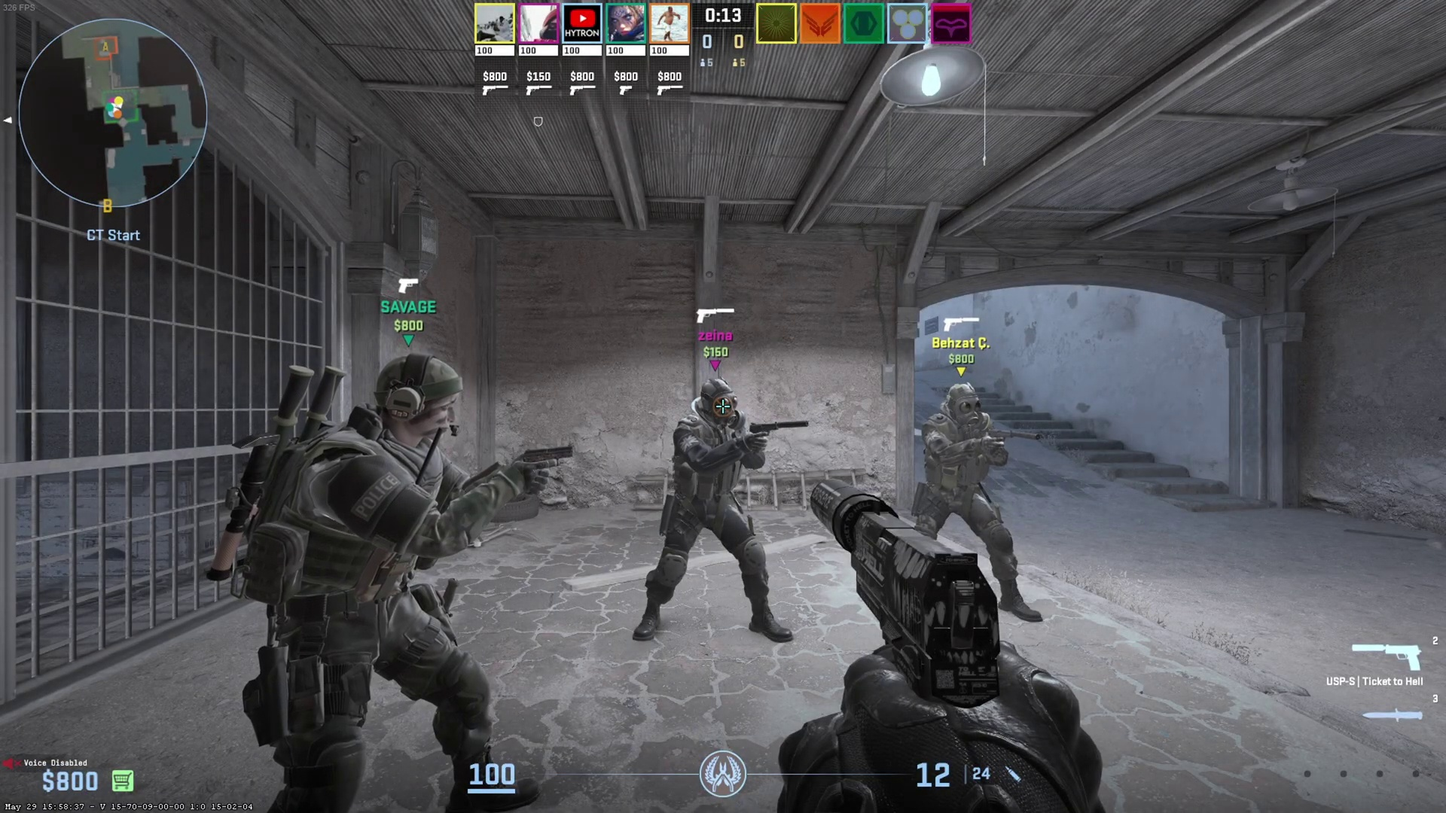CT: (264, 356, 540, 811), (636, 378, 794, 640), (915, 382, 1042, 623)
